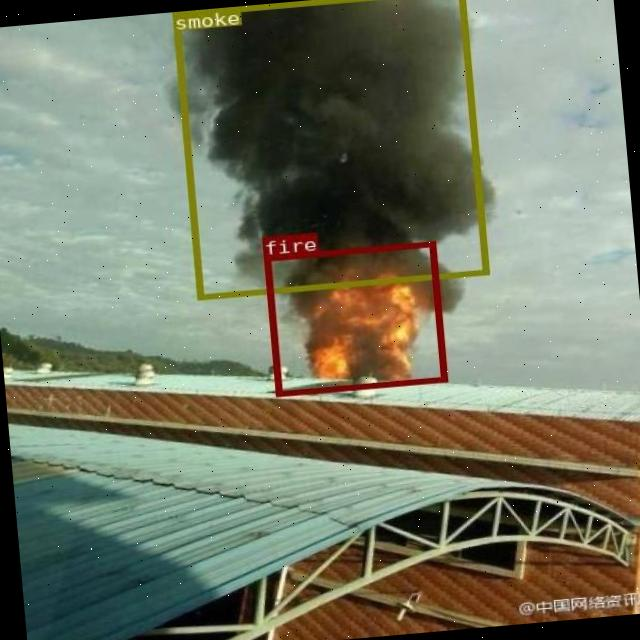fire: (263, 240, 446, 395)
smoke: (170, 0, 488, 298)
